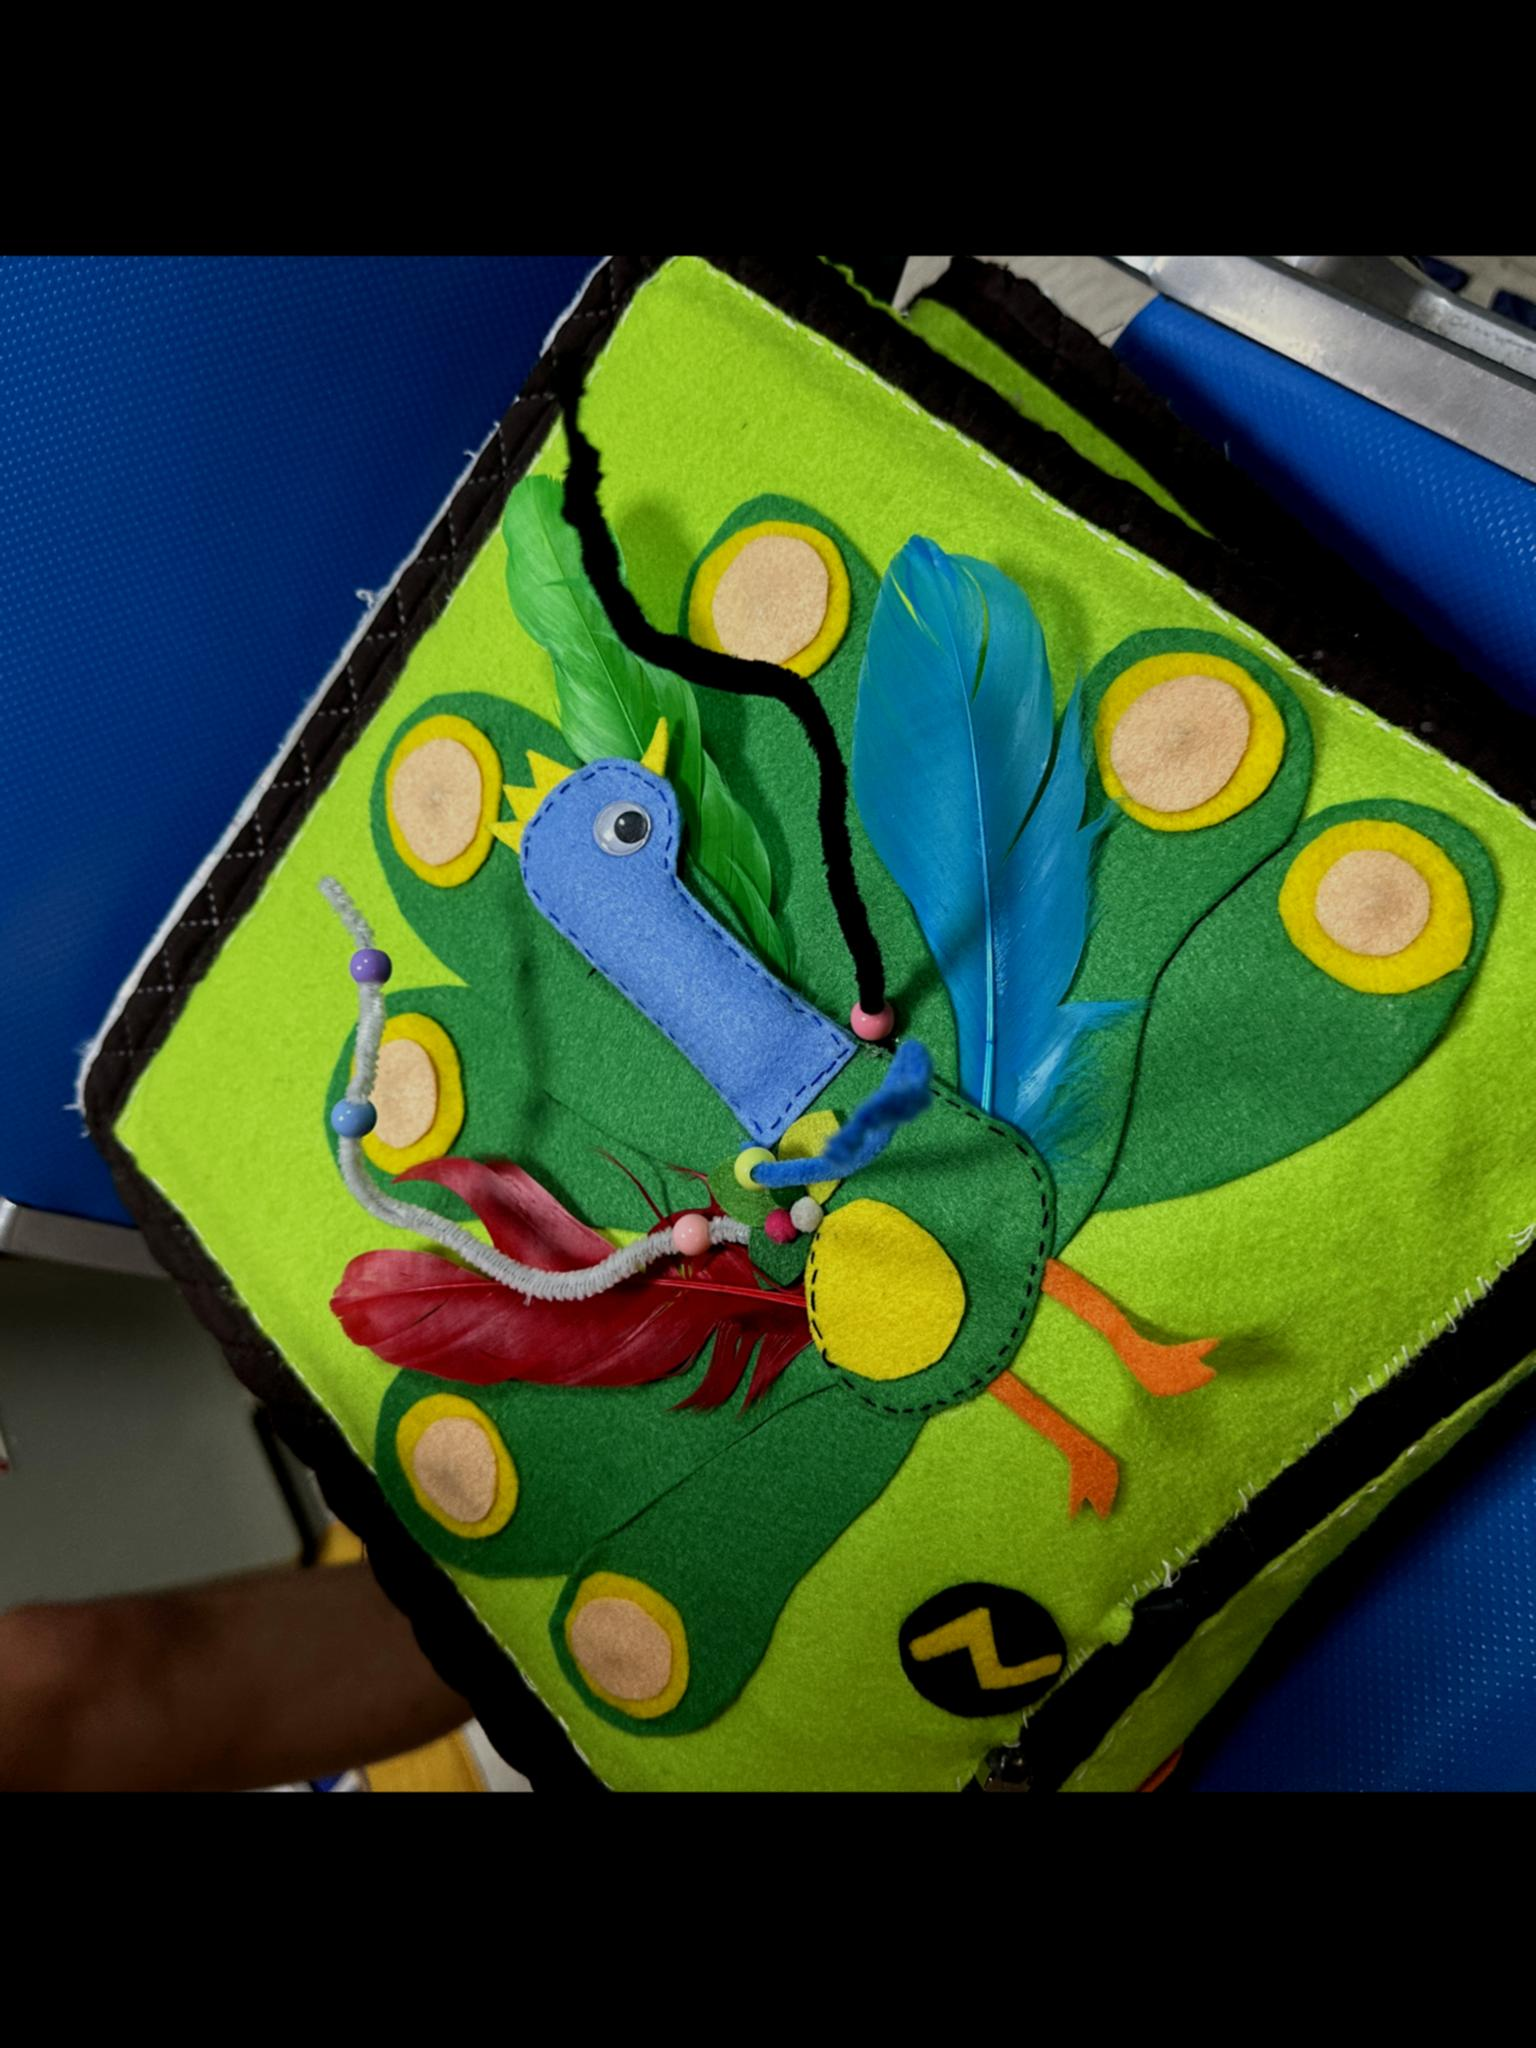bead: (331, 932, 405, 997), (310, 1089, 384, 1147), (650, 1206, 713, 1264), (841, 993, 899, 1055), (723, 1145, 779, 1192)
